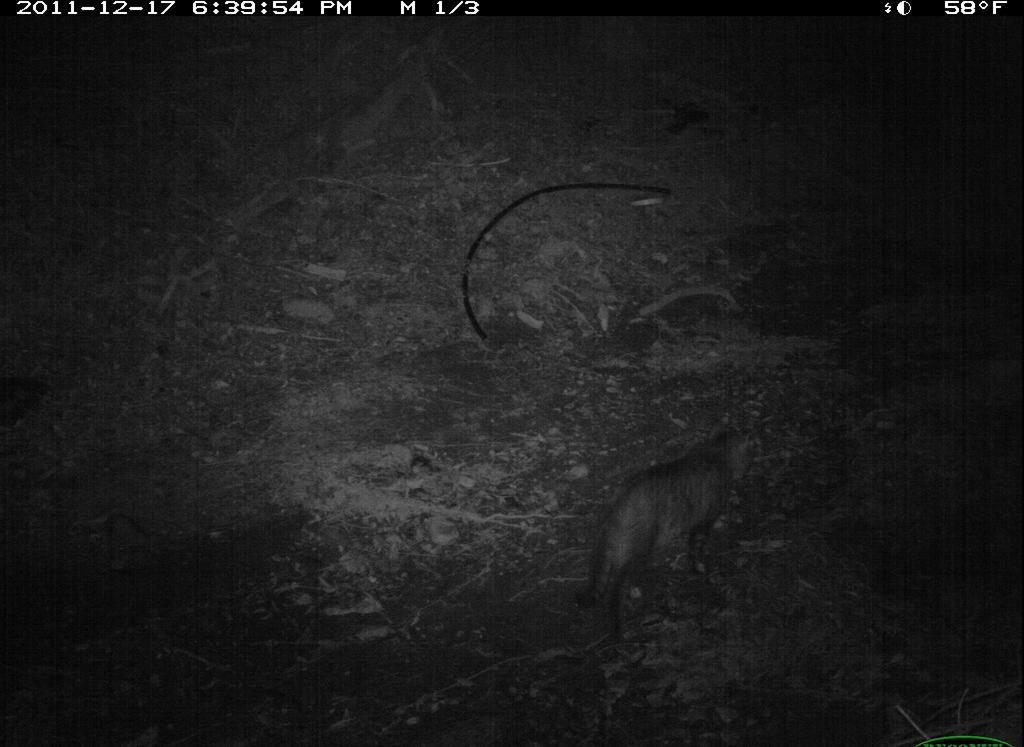cat: (562, 413, 770, 644)
